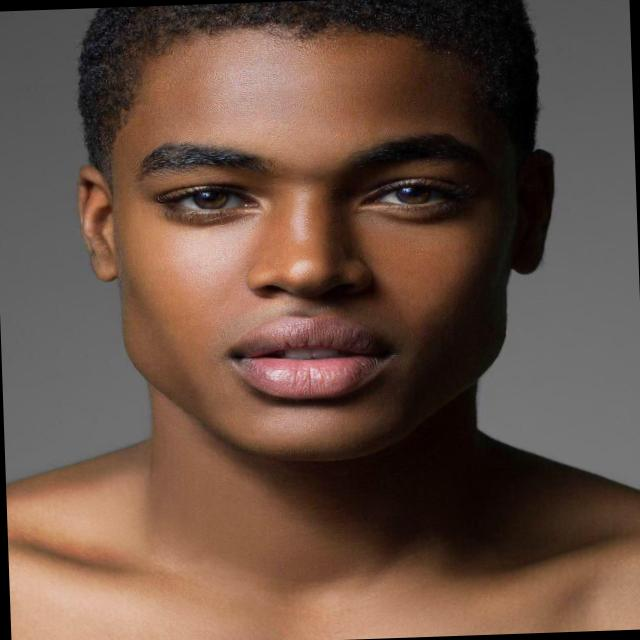face: (67, 0, 572, 473)
